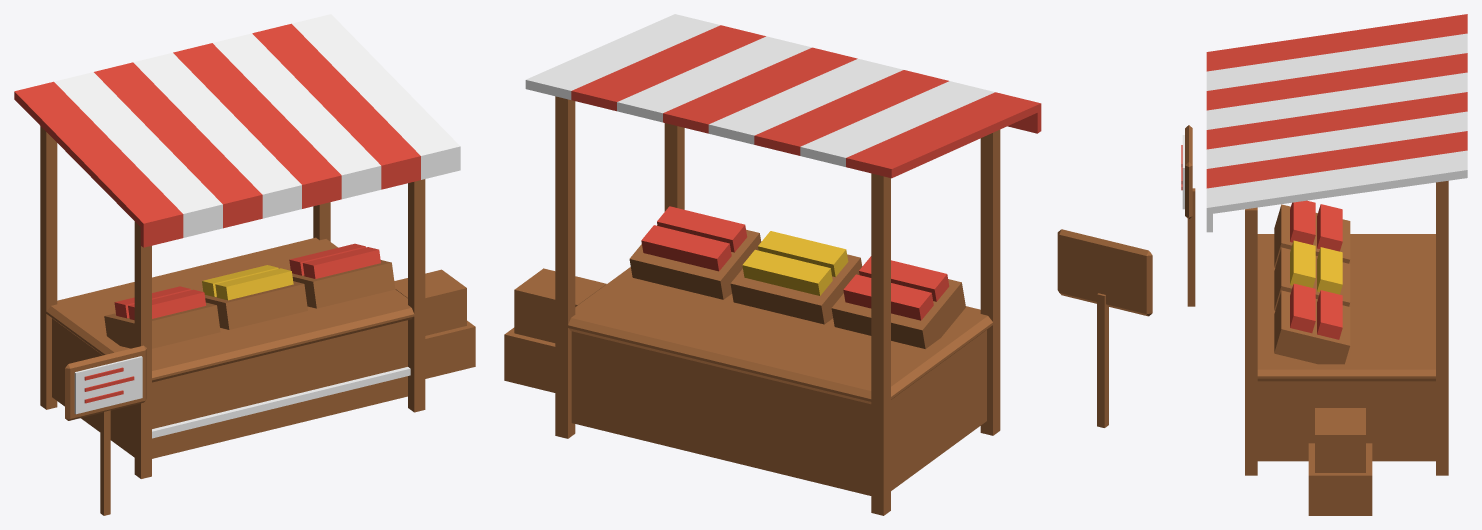
The model's file is market-stall.glb.
3 renders of one model, left to right at view 1: azimuth 30°, elevation 25°; view 2: azimuth 150°, elevation 25°; view 3: azimuth 270°, elevation 25°, orthographic. The views are drawn at different scales.
Visible parts, largest first — view 1: market-stall; view 2: market-stall; view 3: market-stall.
Part boxes in pixels (left/top/right/bottom): market-stall: left=14, top=14, right=475, bottom=515; market-stall: left=504, top=14, right=1152, bottom=515; market-stall: left=1181, top=14, right=1467, bottom=515.
Size of the model in its own units: 4.3 by 2.72 by 2.25.
